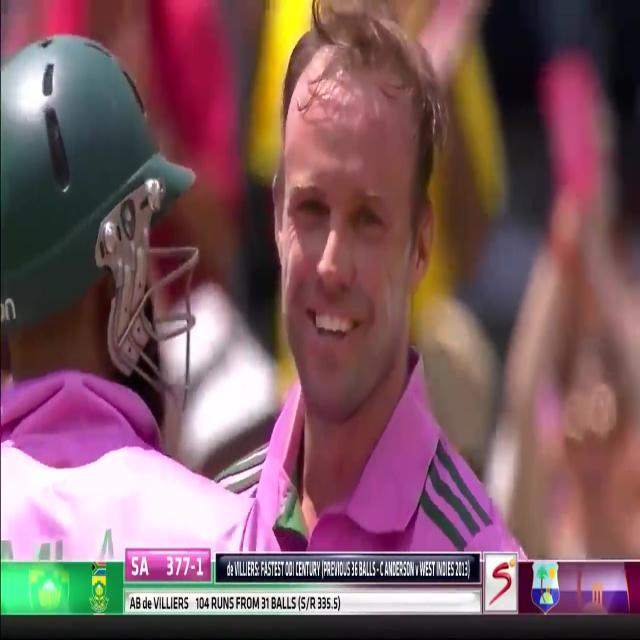Ball: (151, 0, 513, 554), (1, 24, 234, 568)
